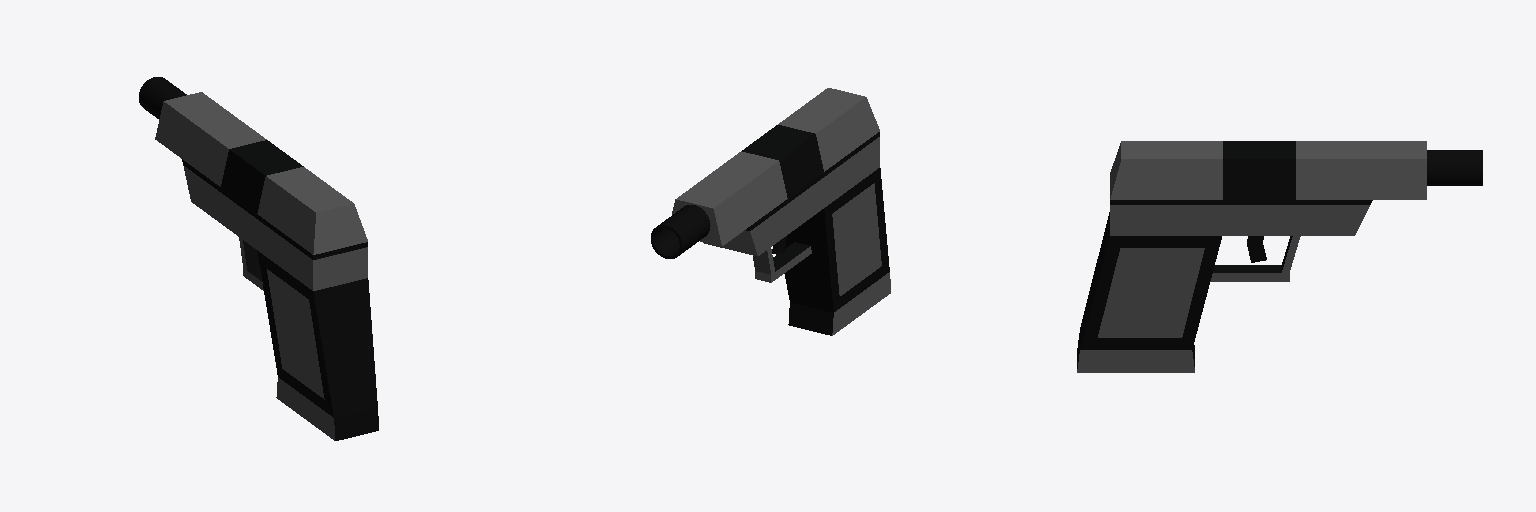
The model's file is pistol_m9.obj.
The picture shows the model from 3 angles: view 1: azimuth 30°, elevation 25°; view 2: azimuth 150°, elevation 25°; view 3: azimuth 270°, elevation 25°; orthographic projection.
Visible parts, largest first — view 1: Cube; view 2: Cube; view 3: Cube.
Boxes of the visible parts, x1=… form: Cube: x1=139, y1=77, x2=378, y2=440; Cube: x1=651, y1=88, x2=890, y2=335; Cube: x1=1077, y1=141, x2=1482, y2=372.
Bounding box in the file's own units: 0.0402 × 0.1478 × 0.257.